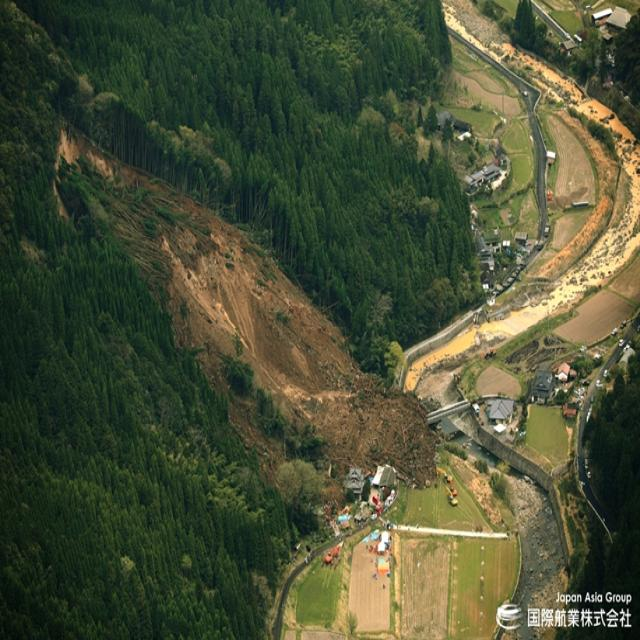Debris-flow: (60, 130, 435, 486)
